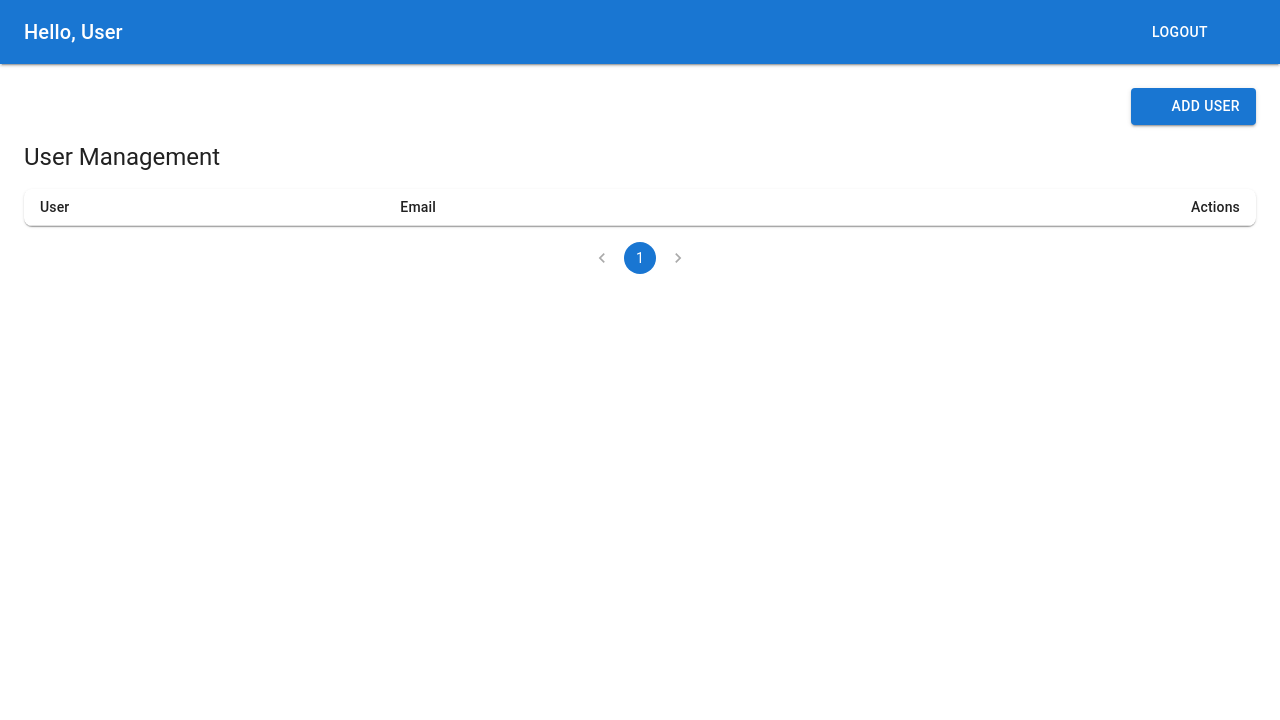
Test case: Logout flow › should log out and redirect to login
The width and height of the screenshot is (1280, 720).
Click the button "Logout".
click(1180, 33)  # box [1144,14,1216,51]
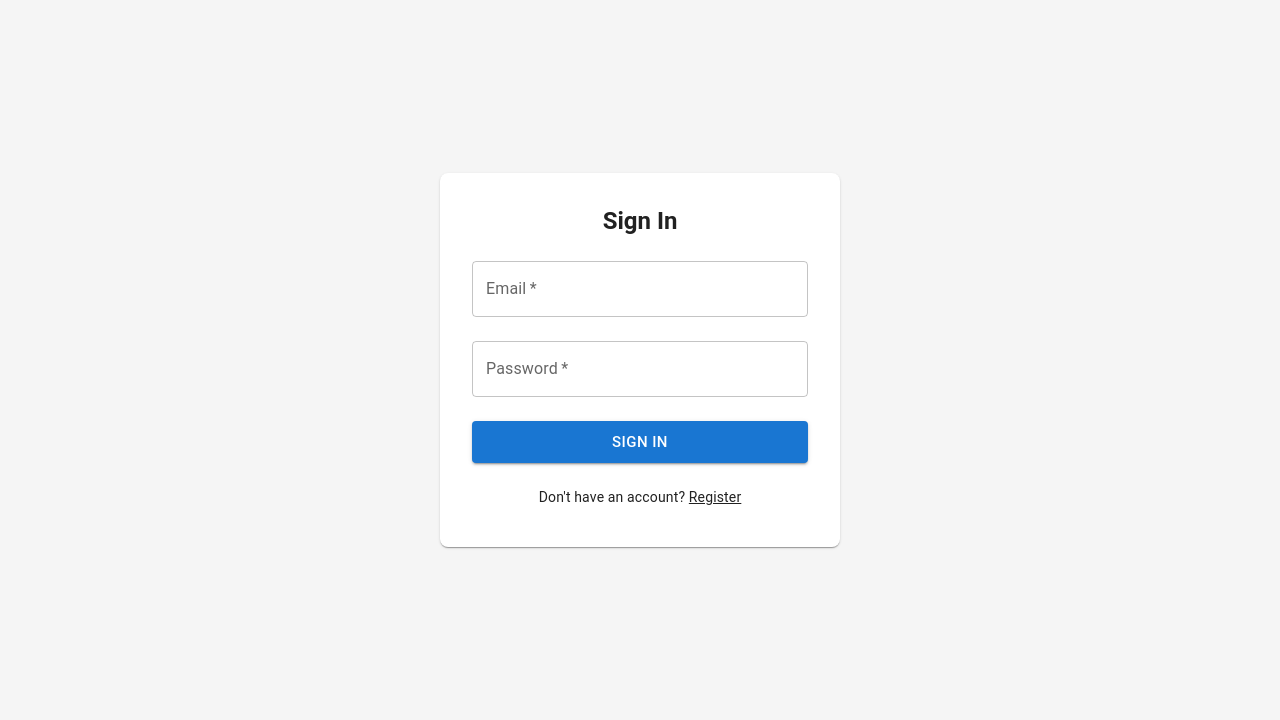
Expected: the field named "email" is shown, [472,261,808,317]
